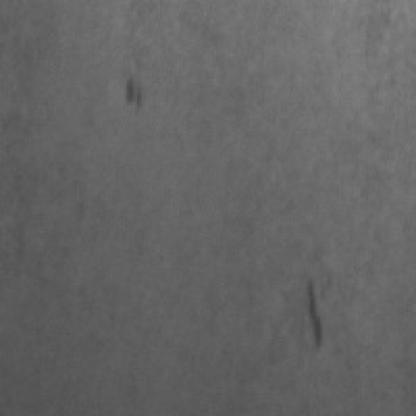inclusion: (293, 268, 329, 352), (115, 68, 144, 114)
